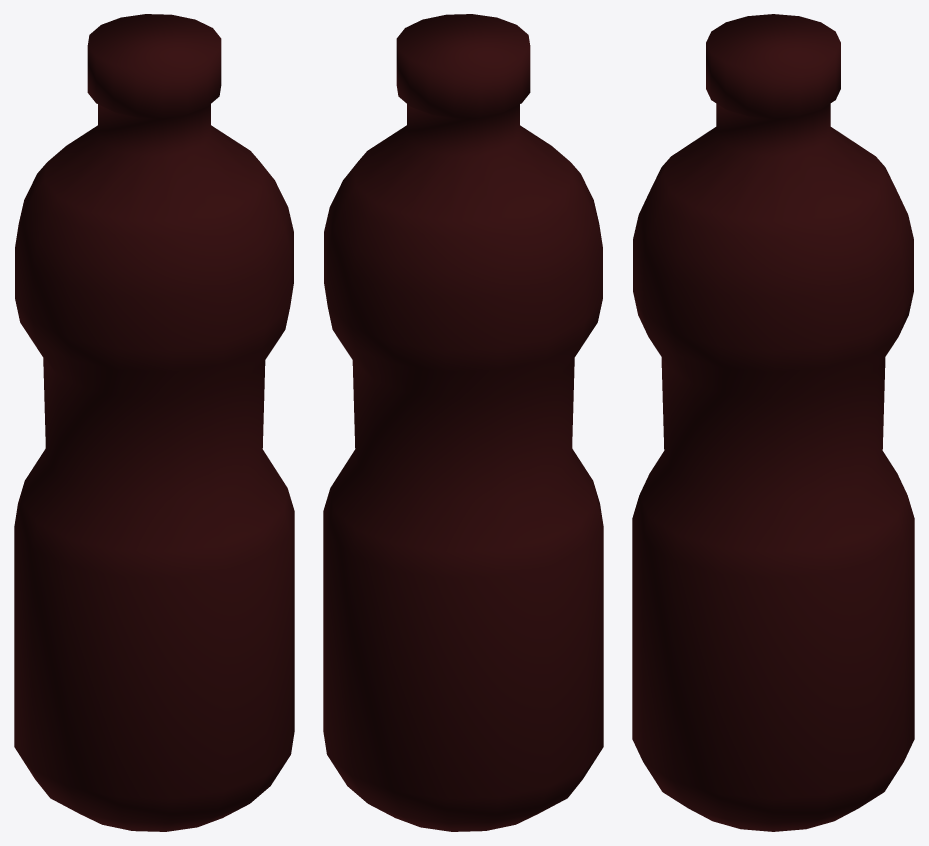
File: cola_mini.fbx
3 views of the same model, side by side, from view 1: azimuth 30°, elevation 25°; view 2: azimuth 150°, elevation 25°; view 3: azimuth 270°, elevation 25° (orthographic).
Parts seen in each view (by area): view 1: Cola; view 2: Cola; view 3: Cola.
Boxes of the visible parts, bbox=[...] form: Cola: bbox=[14, 14, 294, 831]; Cola: bbox=[323, 14, 603, 831]; Cola: bbox=[632, 14, 914, 831].
Size of the model in its own units: 52.96 by 156 by 52.96.
